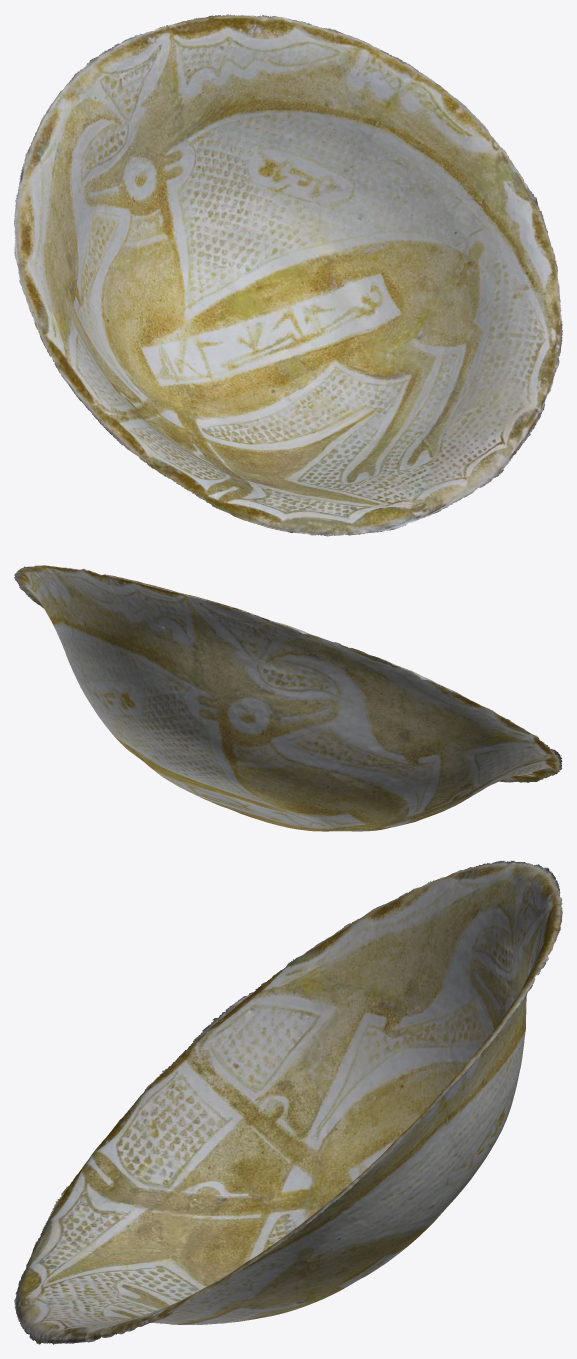
File: preview.glb
The picture shows the model from 3 angles, top to bottom: view 1: azimuth 30°, elevation 25°; view 2: azimuth 150°, elevation 25°; view 3: azimuth 270°, elevation 25°; orthographic projection. The views are drawn at different scales.
Parts seen in each view (by area): view 1: Object_2; view 2: Object_2; view 3: Object_2.
Boxes of the visible parts, x1=… form: Object_2: x1=14, y1=14, x2=562, y2=536; Object_2: x1=14, y1=565, x2=562, y2=831; Object_2: x1=14, y1=860, x2=562, y2=1344.
Bounding box in the file's own units: 0.8359 × 0.537 × 0.6698.
1 material, 1 textured.
